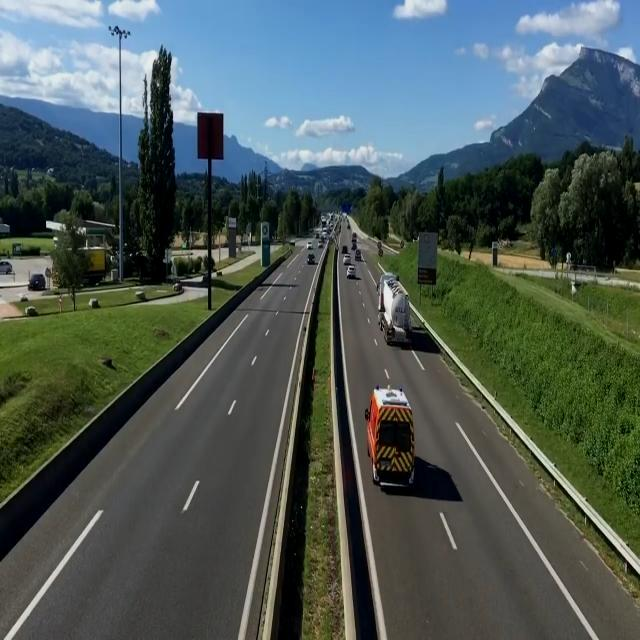Car: (346, 265, 357, 279), (307, 252, 317, 266), (343, 254, 352, 264), (306, 241, 314, 249)
Truck: (376, 270, 414, 346)
Van: (364, 386, 419, 489)
